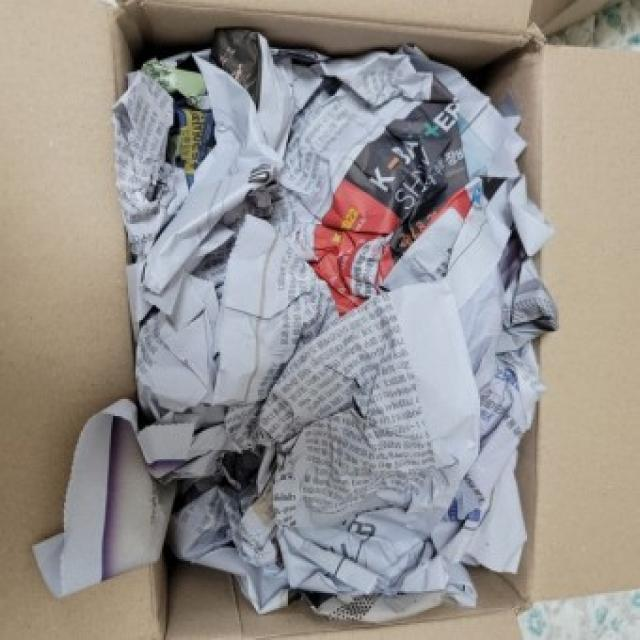Newspaper: (144, 70, 496, 576)
